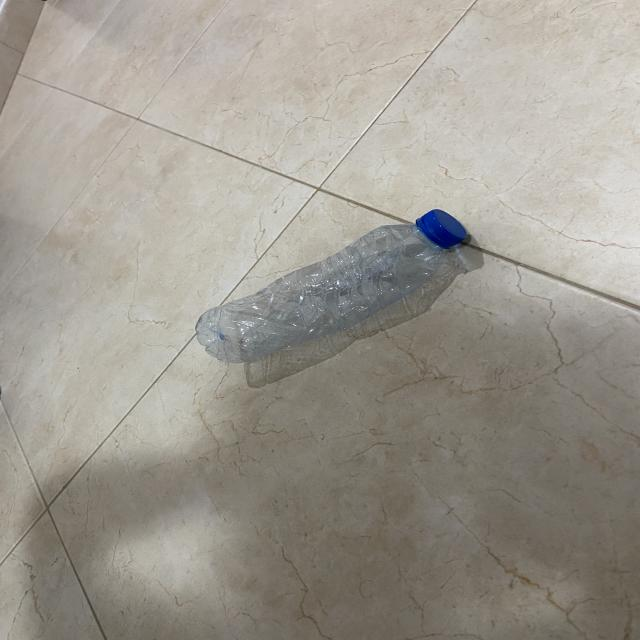plastic bottle: (192, 210, 467, 373)
